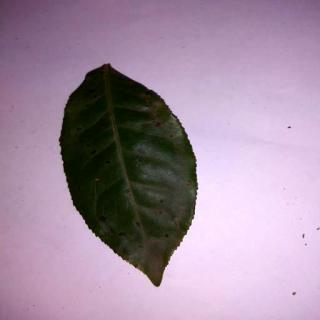Bird Eye Spot: (62, 64, 198, 288)
